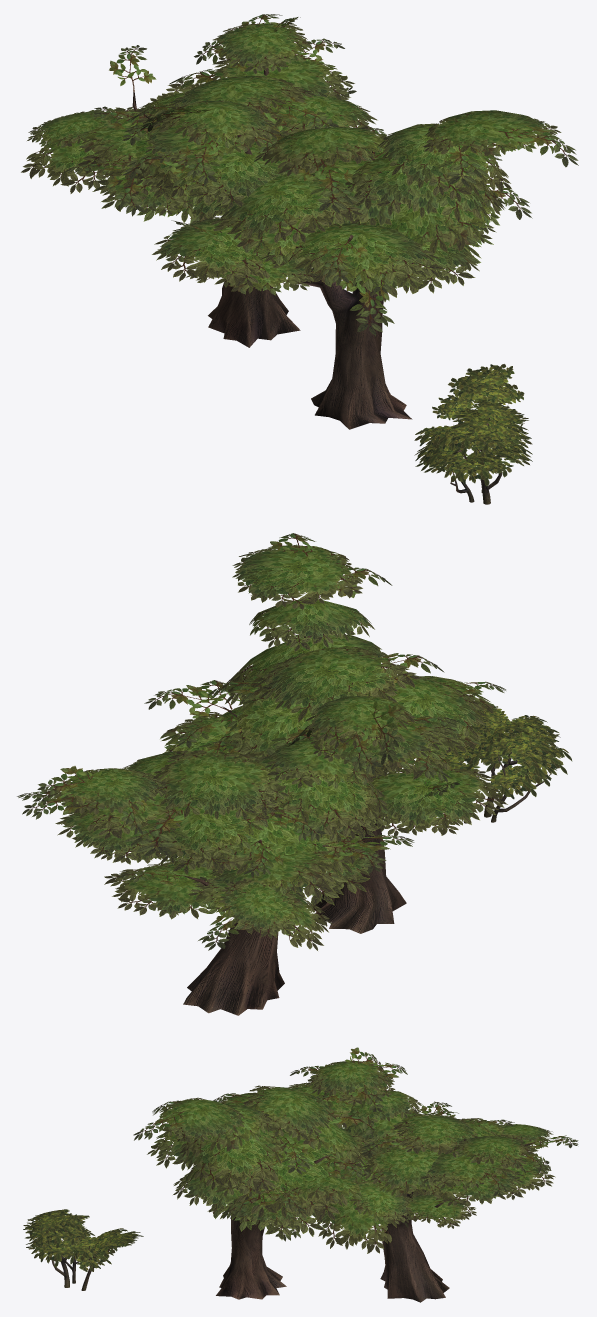
The model's file is Trees.FBX.
3 views of the same model, one above another, from view 1: azimuth 30°, elevation 25°; view 2: azimuth 150°, elevation 25°; view 3: azimuth 270°, elevation 25° (orthographic). The views are drawn at different scales.
Parts seen in each view (by area): view 1: Tree1, Tree2, Brush; view 2: Tree2, Tree1, Brush; view 3: Tree1, Tree2, Brush.
Part boxes in pixels (left/top/right/bottom): Tree1: left=122, top=99, right=578, bottom=429; Tree2: left=21, top=14, right=379, bottom=347; Brush: left=414, top=364, right=532, bottom=504; Tree2: left=17, top=715, right=459, bottom=1015; Tree1: left=144, top=533, right=507, bottom=933; Brush: left=416, top=704, right=572, bottom=823; Tree1: left=133, top=1047, right=426, bottom=1299; Tree2: left=290, top=1064, right=578, bottom=1302; Brush: left=23, top=1209, right=143, bottom=1290.
Size of what is drawn, in the model's own units: 3.91 by 3.15 by 7.73.
1 material, 1 textured.
